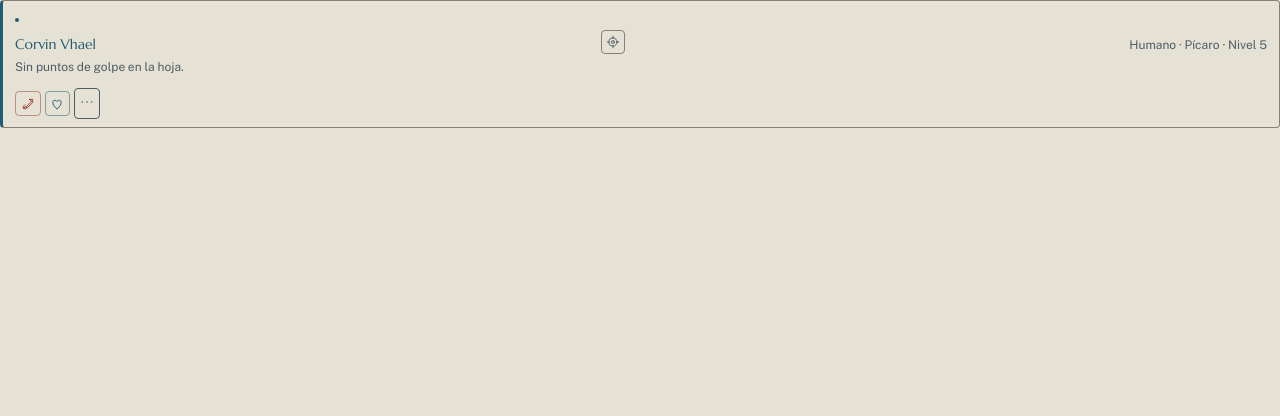
Test case: el DM corrige el bando desde la ficha del elenco (tarea 10) › si el servidor rechaza el cambio de bando, su mensaje se ve como alerta bajo la fila
What coordinates should you click on to do the following:
click the button named "Más acciones sobre Corvin Vhael"
I would click on:
 (87, 104)
Its box is x1=74 y1=88 x2=100 y2=119.
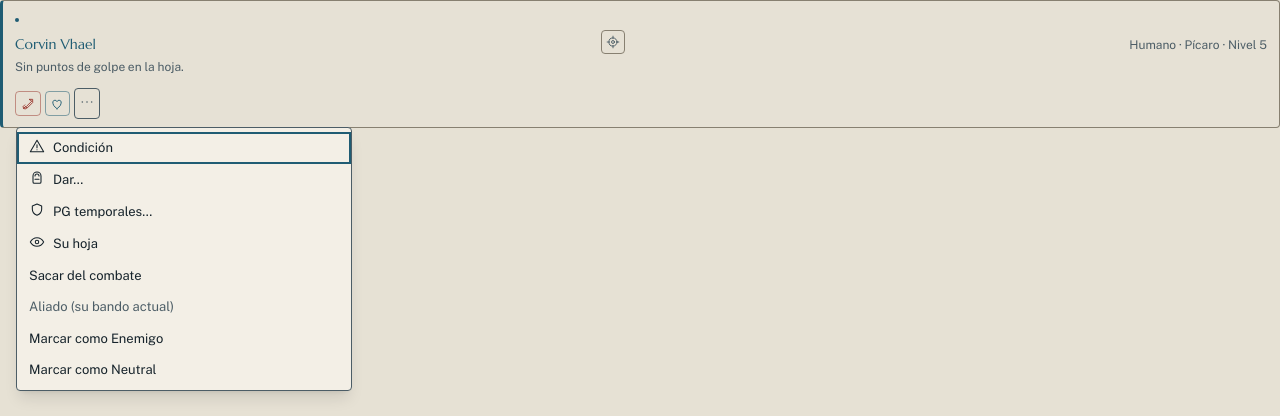
What coordinates should you click on to do the following:
click the menu item "Marcar como Enemigo"
I would click on:
 (96, 338)
Its box is x1=17 y1=322 x2=351 y2=354.
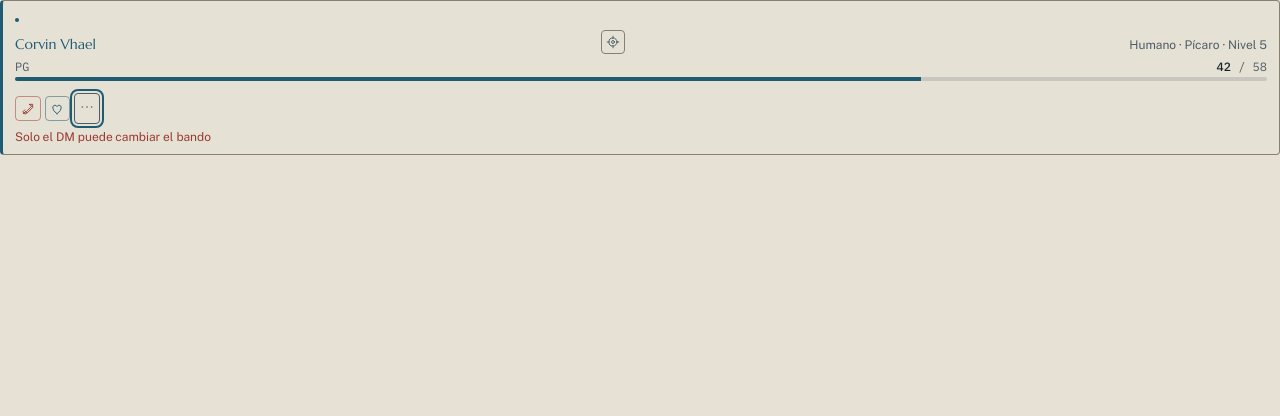
Expected: the message reads "Solo el DM puede cambiar el bando", x1=15 y1=130 x2=211 y2=144
